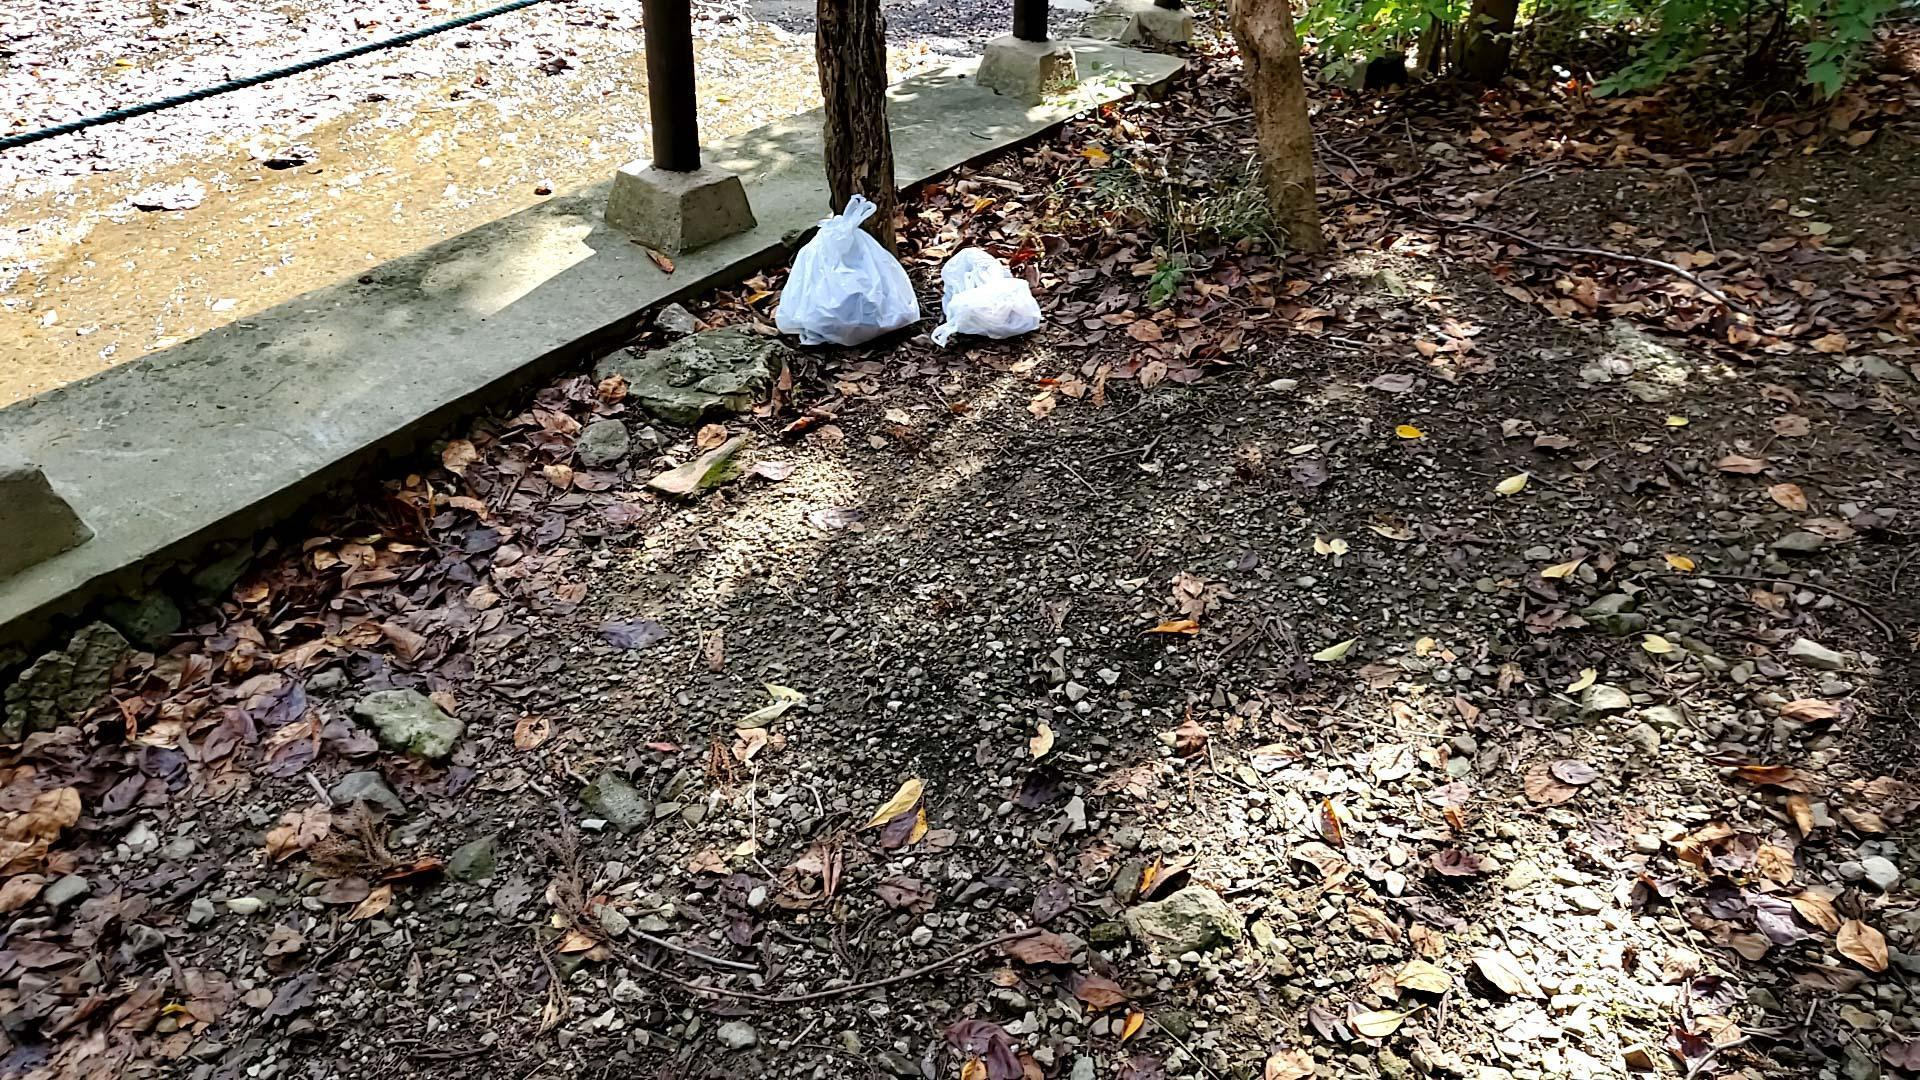white_bag: (764, 187, 924, 351), (928, 245, 1046, 351)
